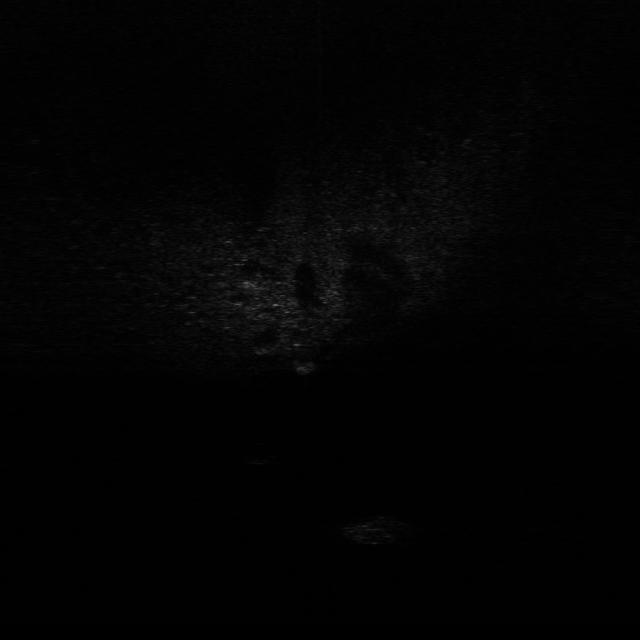ball: (240, 438, 284, 466)
circle cage: (337, 507, 419, 545)
cube: (286, 354, 326, 380)
